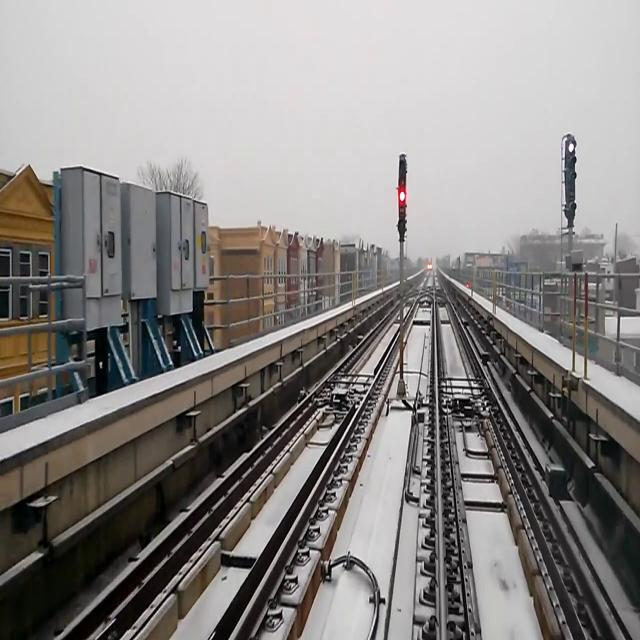rail-track: (63, 302, 400, 639), (434, 271, 615, 639), (403, 293, 417, 316), (416, 273, 427, 286), (410, 285, 417, 292)
